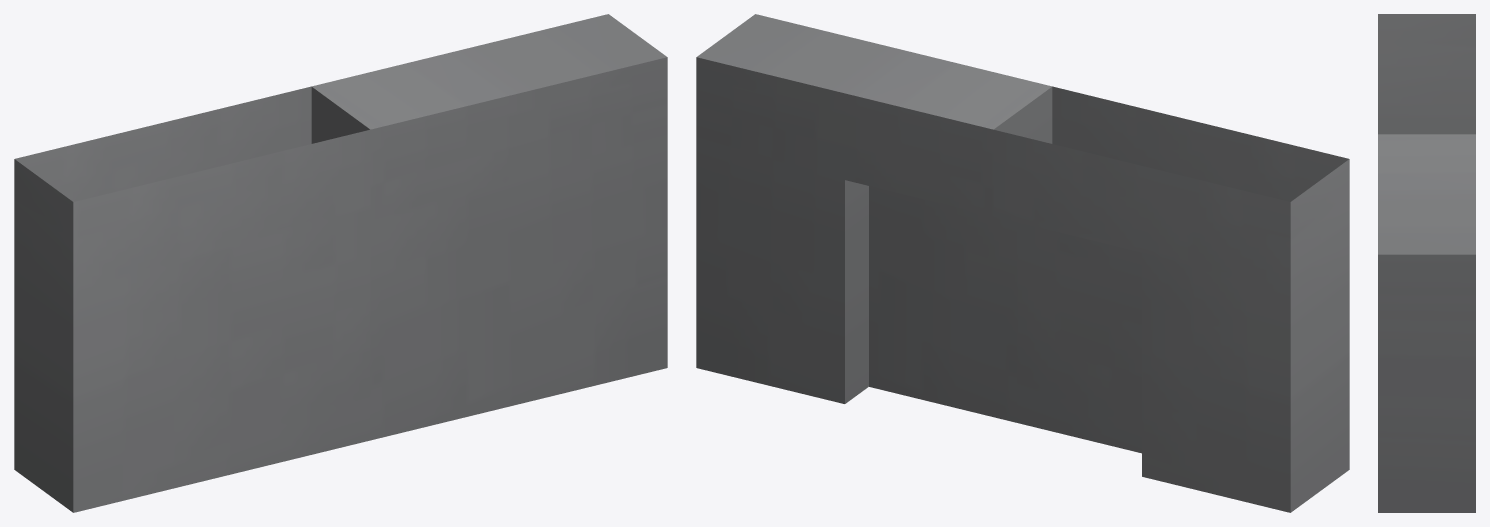
File: pared estante.fbx
3 views of the same model, side by side, from view 1: azimuth 30°, elevation 25°; view 2: azimuth 150°, elevation 25°; view 3: azimuth 270°, elevation 25° (orthographic). The views are drawn at different scales.
Parts seen in each view (by area): view 1: Pared estahnte; view 2: Pared estahnte; view 3: Pared estahnte.
Boxes of the visible parts, bbox=[...] form: Pared estahnte: bbox=[14, 14, 667, 512]; Pared estahnte: bbox=[696, 14, 1349, 512]; Pared estahnte: bbox=[1378, 14, 1475, 512].
Size of the model in its own units: 600 by 300 by 103.
Materials: 1 (1 with a texture image).
